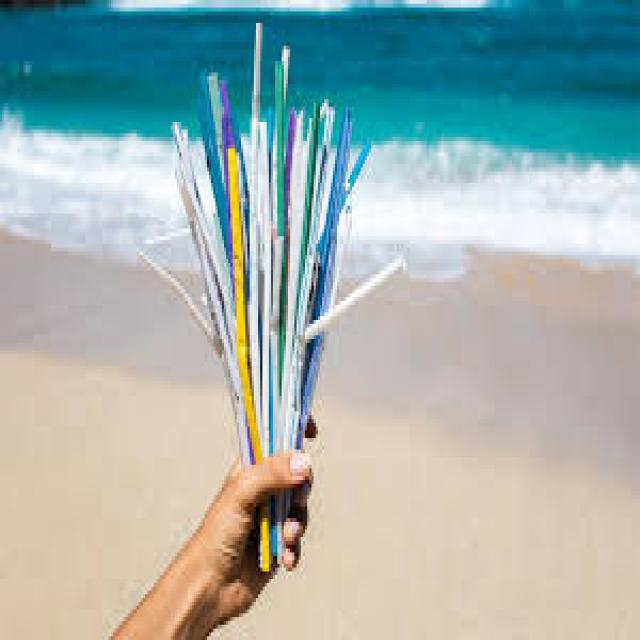plastic: (124, 228, 225, 408)
